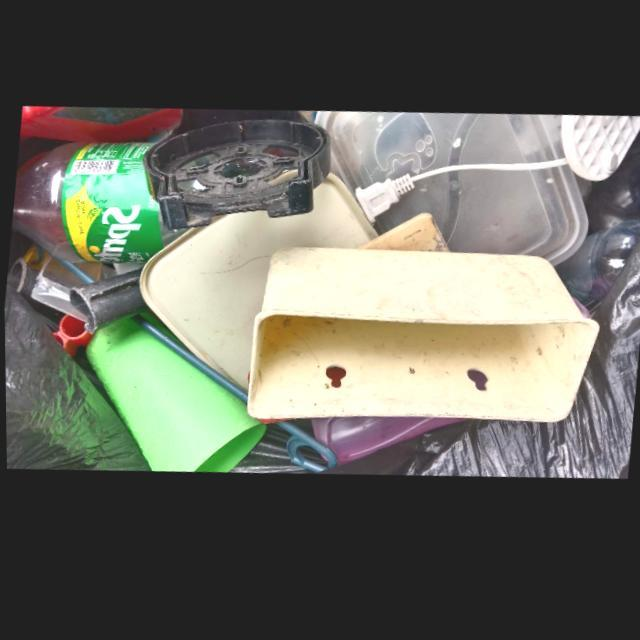plastic: (244, 251, 598, 433), (84, 317, 264, 475), (10, 143, 180, 265)
